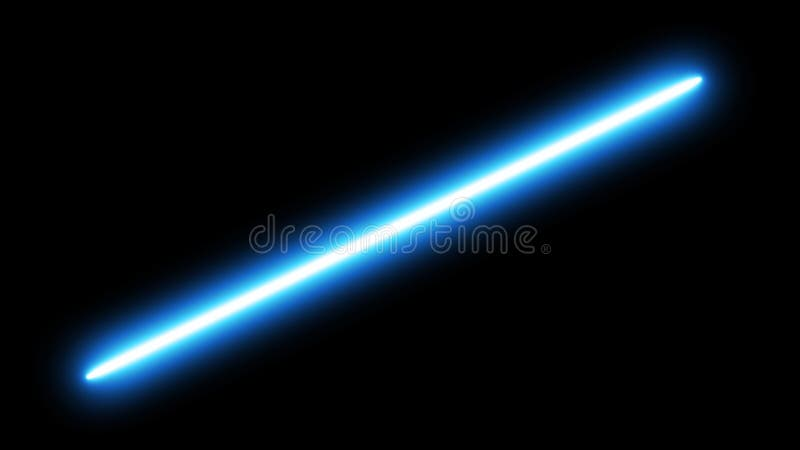lightsaber: (57, 36, 700, 401)
